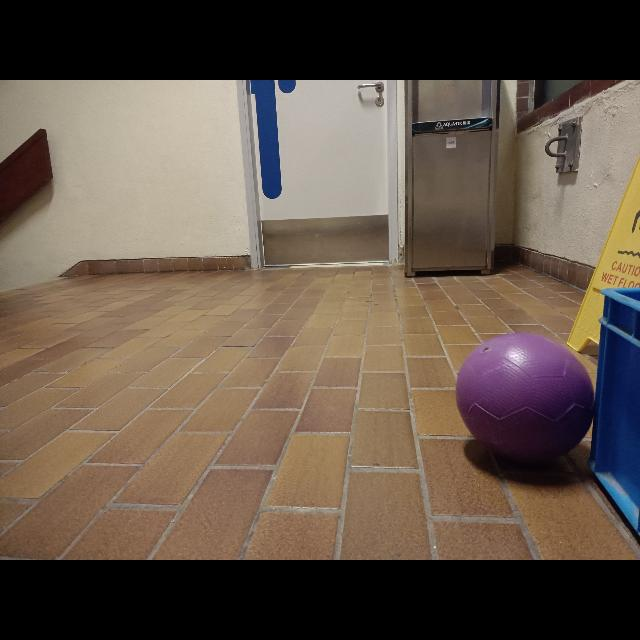P: (457, 332, 595, 470)
